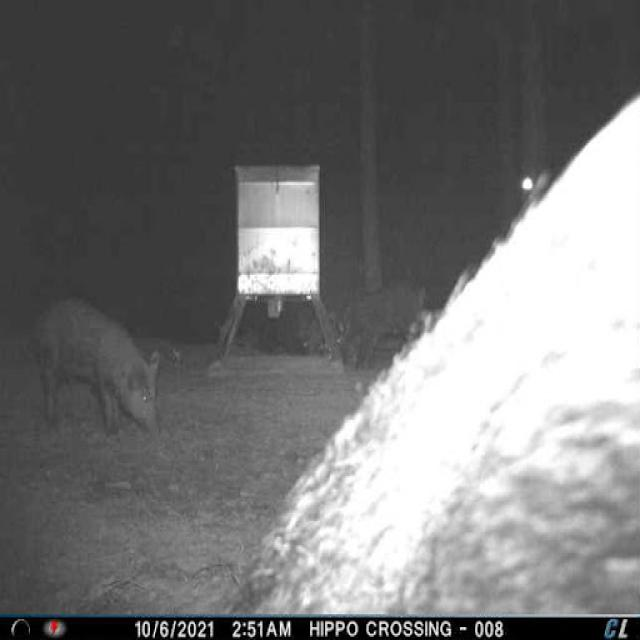wild boar: (230, 85, 640, 618), (36, 288, 186, 447), (322, 273, 428, 373)
